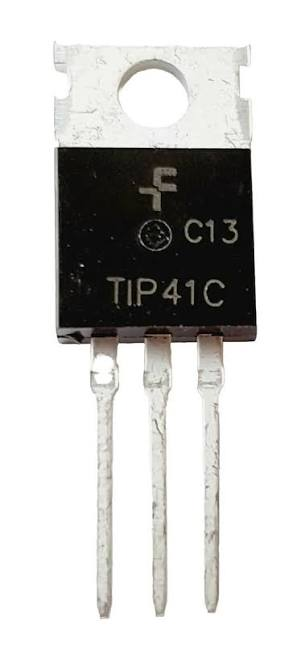MOSFET: (55, 32, 275, 616)
